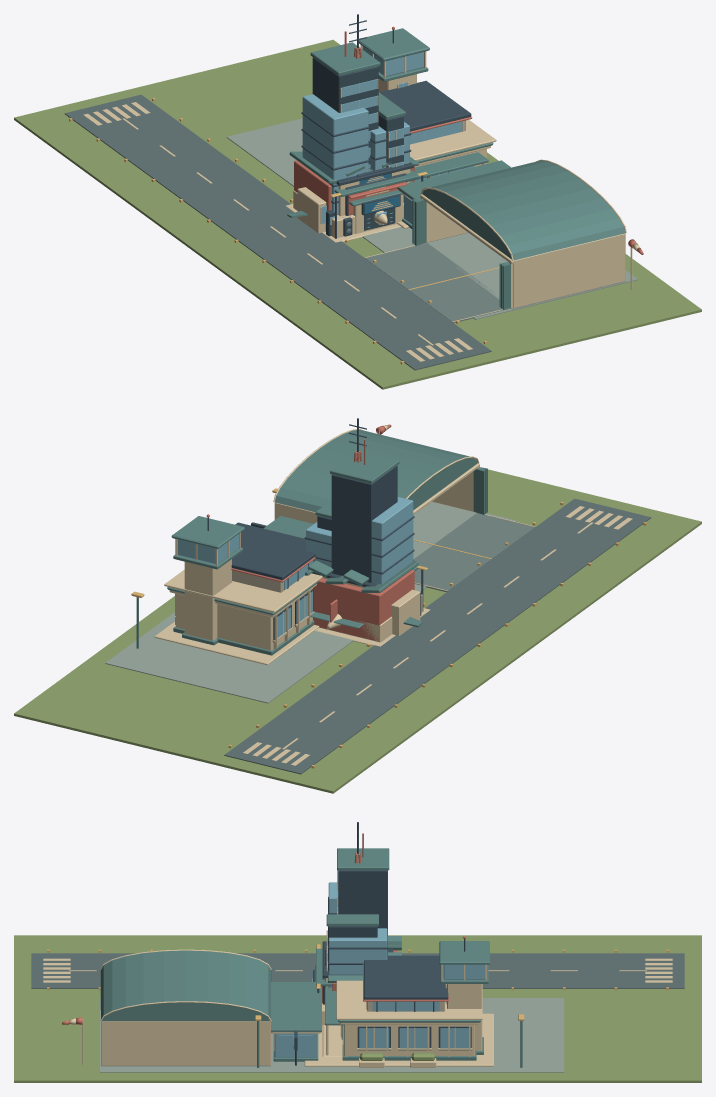
The model's file is future.glb.
3 renders of one model, top to bottom at view 1: azimuth 30°, elevation 25°; view 2: azimuth 150°, elevation 25°; view 3: azimuth 270°, elevation 25°, orthographic. The views are drawn at different scales.
Visible parts, largest first — view 1: Airfield grass verge, North south runway, Runway-facing barrel roof, Hangar side wall.001, Hangar taxiway, Glass campus tower, Terminal and hangar apron, Flush hangar floor, Departure hall parapet, Stepped office tower, Floating roof cap, Control tower roof (+10 smaller); view 2: Airfield grass verge, North south runway, Terminal and hangar apron, Runway-facing barrel roof, Stepped office tower, Hangar taxiway, Auditorium, Departure hall parapet, Control tower shaft, Glass campus tower, Terminal concourse, Floating roof cap (+12 smaller); view 3: Airfield grass verge, Runway-facing barrel roof, North south runway, Terminal and hangar apron, Hangar rear wall, Departure hall parapet, Lounge roof.002, Stepped office tower, Floating roof cap, Glass campus tower.001, Passenger forecourt, Terminal concourse (+17 smaller).
Boxes of the visible parts, x1,y1,x2,y2 form: Airfield grass verge: (14, 39, 701, 389); North south runway: (64, 94, 491, 370); Runway-facing barrel roof: (422, 160, 625, 260); Hangar side wall.001: (513, 234, 625, 308); Hangar taxiway: (365, 243, 510, 322); Glass campus tower: (302, 94, 368, 214); Terminal and hangar apron: (226, 118, 638, 319); Flush hangar floor: (427, 232, 626, 309); Departure hall parapet: (379, 80, 471, 131); Stepped office tower: (312, 57, 378, 164); Floating roof cap: (410, 119, 496, 160); Control tower roof: (359, 28, 429, 61); Airfield grass verge: (14, 469, 701, 793); North south runway: (224, 498, 651, 774); Terminal and hangar apron: (105, 513, 516, 703); Runway-facing barrel roof: (275, 429, 477, 512); Stepped office tower: (331, 465, 397, 582); Hangar taxiway: (414, 513, 534, 591); Auditorium: (313, 570, 414, 641); Departure hall parapet: (231, 522, 315, 580); Control tower shaft: (184, 559, 231, 640); Glass campus tower: (372, 497, 413, 584); Terminal concourse: (176, 588, 312, 650); Floating roof cap: (164, 569, 322, 612); Airfield grass verge: (14, 935, 701, 1082); Runway-facing barrel roof: (101, 950, 270, 1021); North south runway: (31, 953, 684, 988); Terminal and hangar apron: (100, 998, 564, 1072); Hangar rear wall: (101, 1021, 270, 1065); Departure hall parapet: (364, 955, 448, 999); Lounge roof.002: (271, 982, 321, 1032); Stepped office tower: (338, 870, 387, 950); Floating roof cap: (336, 980, 482, 1019); Glass campus tower.001: (328, 928, 387, 987); Passenger forecourt: (304, 1013, 493, 1066); Terminal concourse: (344, 1024, 474, 1055).
Size of the model in its own units: 20 by 12.05 by 40.
